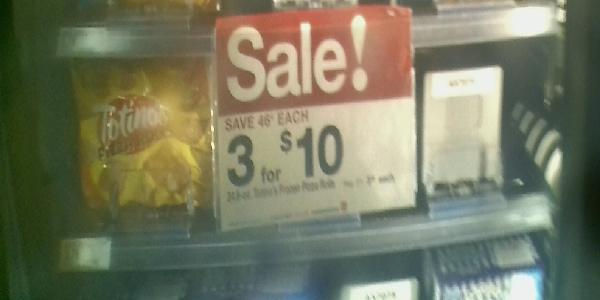icecream: (63, 60, 221, 236)
